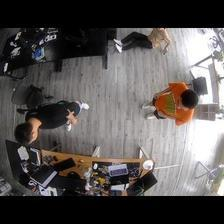fall: (112, 29, 172, 57)
normal: (12, 96, 89, 140), (138, 79, 197, 131)
